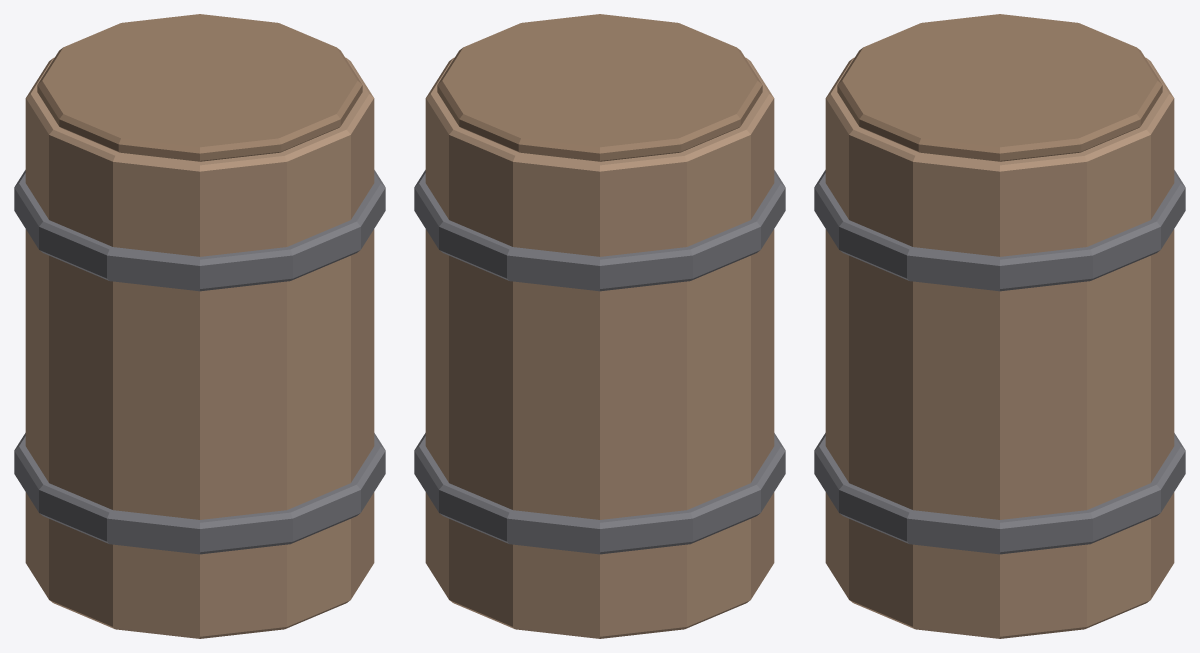
File: SM_Barrel.fbx
The picture shows the model from 3 angles, left to right: view 1: azimuth 30°, elevation 25°; view 2: azimuth 150°, elevation 25°; view 3: azimuth 270°, elevation 25°; orthographic projection.
Visible parts, largest first — view 1: Barrel; view 2: Barrel; view 3: Barrel.
Boxes of the visible parts, x1,y1,x2,y2 form: Barrel: [14, 14, 385, 638]; Barrel: [414, 14, 785, 638]; Barrel: [814, 14, 1185, 638].
Bounding box in the file's own units: 64 × 92.5 × 64.
